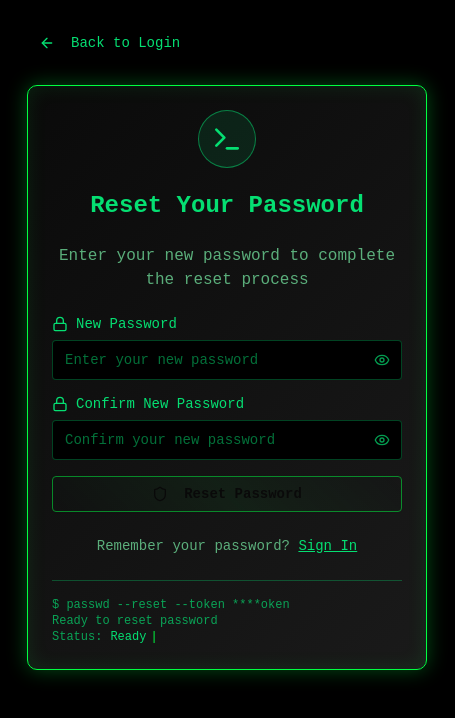
Test case: ResetPasswordPage Security Implementation › should show password strength indicator
// Test password strength progression
In the password field labelled "New Password": (227,360) [52,340,402,380], type "weak"
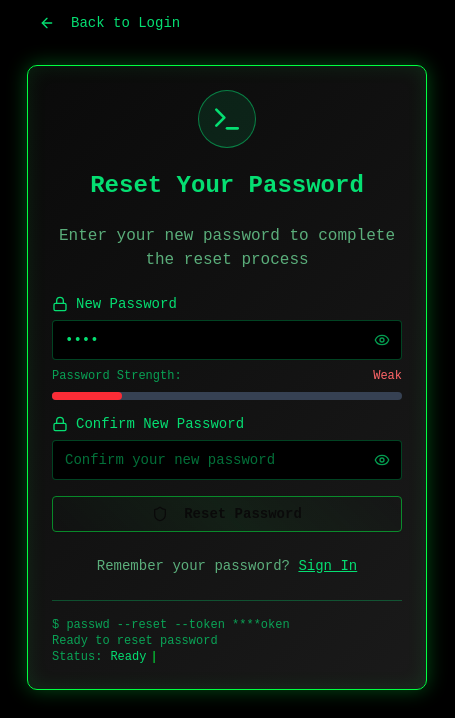
Expected: the text "Weak" is shown, [373,368,402,384]
In the password field labelled "New Password": (227,340) [52,320,402,360], type "StrongPassword123!"
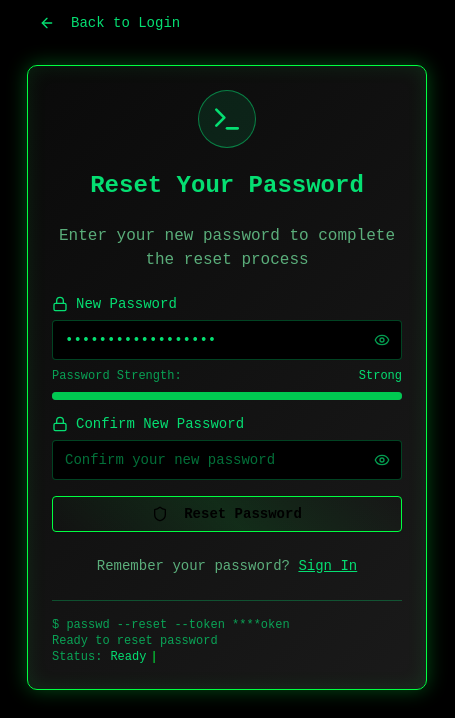
Expected: the text "Strong" is shown, [359,368,402,384]
